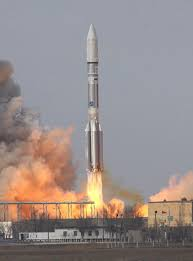ten_lua: (78, 16, 112, 178)
